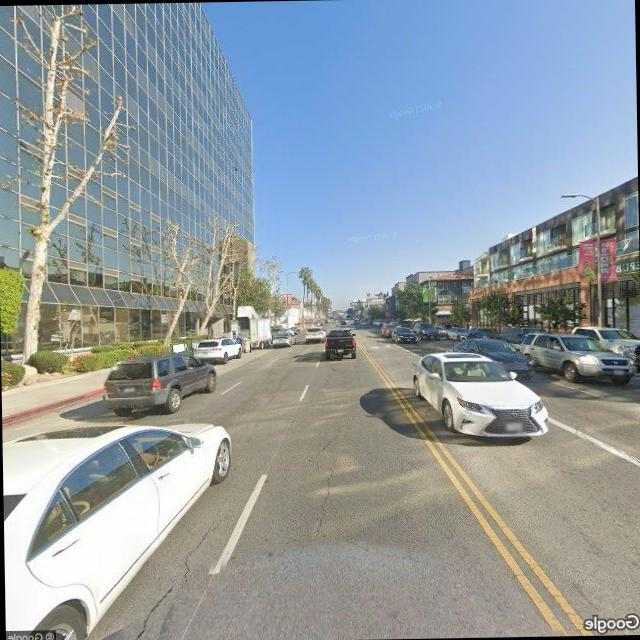pothole: (138, 517, 222, 634), (309, 434, 344, 540)
